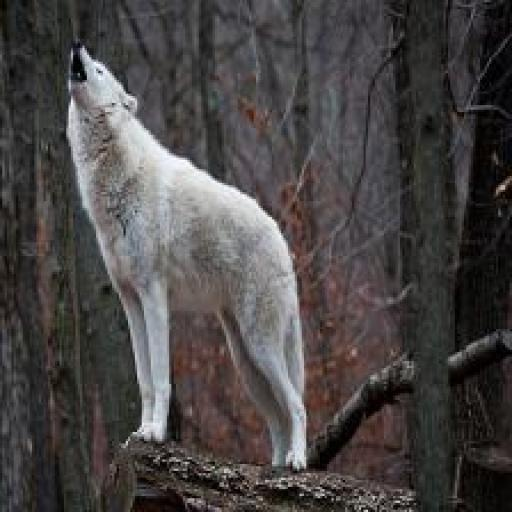wolf: (44, 32, 354, 491)
